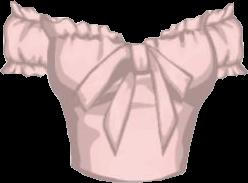Bodice: (39, 10, 216, 181)
Neckline: (42, 9, 210, 44)
Sleeve: (0, 0, 47, 77), (207, 2, 247, 80)
Sleeveline: (205, 10, 219, 68), (38, 14, 48, 66), (10, 11, 40, 21), (207, 14, 234, 24), (5, 59, 47, 65), (216, 60, 242, 67)
Waistline: (69, 164, 186, 182)
